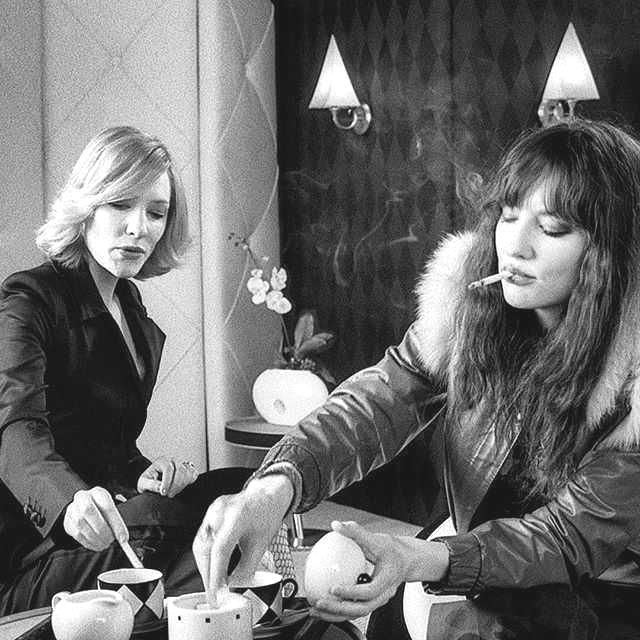Smooking: (116, 532, 157, 578)
